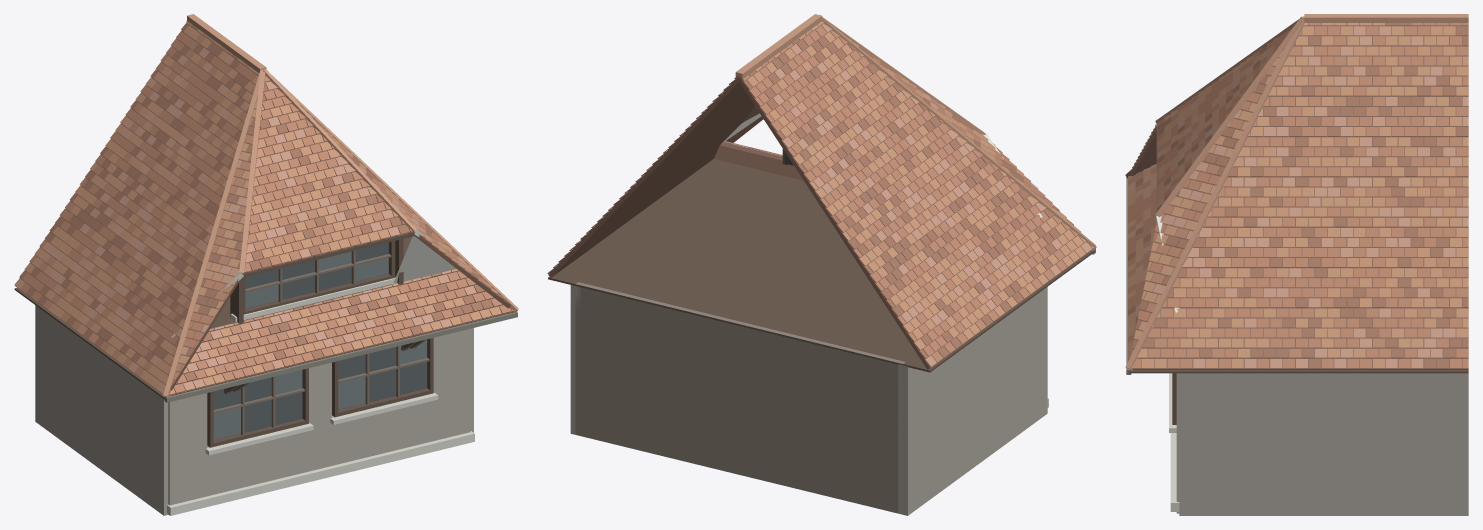
The model's file is fenyang-west-roof-near.glb.
3 renders of one model, left to right at view 1: azimuth 30°, elevation 25°; view 2: azimuth 150°, elevation 25°; view 3: azimuth 270°, elevation 25°, orthographic. The views are drawn at different scales.
Visible parts, largest first — view 1: 汾阳路152–154号并立花园住宅西端折坡瓦檐与阁窗; view 2: 汾阳路152–154号并立花园住宅西端折坡瓦檐与阁窗; view 3: 汾阳路152–154号并立花园住宅西端折坡瓦檐与阁窗.
Boxes of the visible parts, bbox=[...] form: 汾阳路152–154号并立花园住宅西端折坡瓦檐与阁窗: bbox=[14, 14, 518, 515]; 汾阳路152–154号并立花园住宅西端折坡瓦檐与阁窗: bbox=[547, 14, 1096, 515]; 汾阳路152–154号并立花园住宅西端折坡瓦檐与阁窗: bbox=[1125, 14, 1468, 515].
Bounding box in the file's own units: 9.65 × 9.57 × 7.17.
